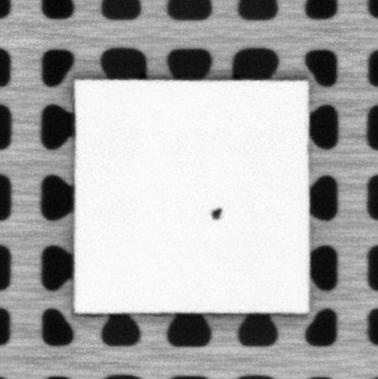DIE_INK: (209, 205, 226, 223)
